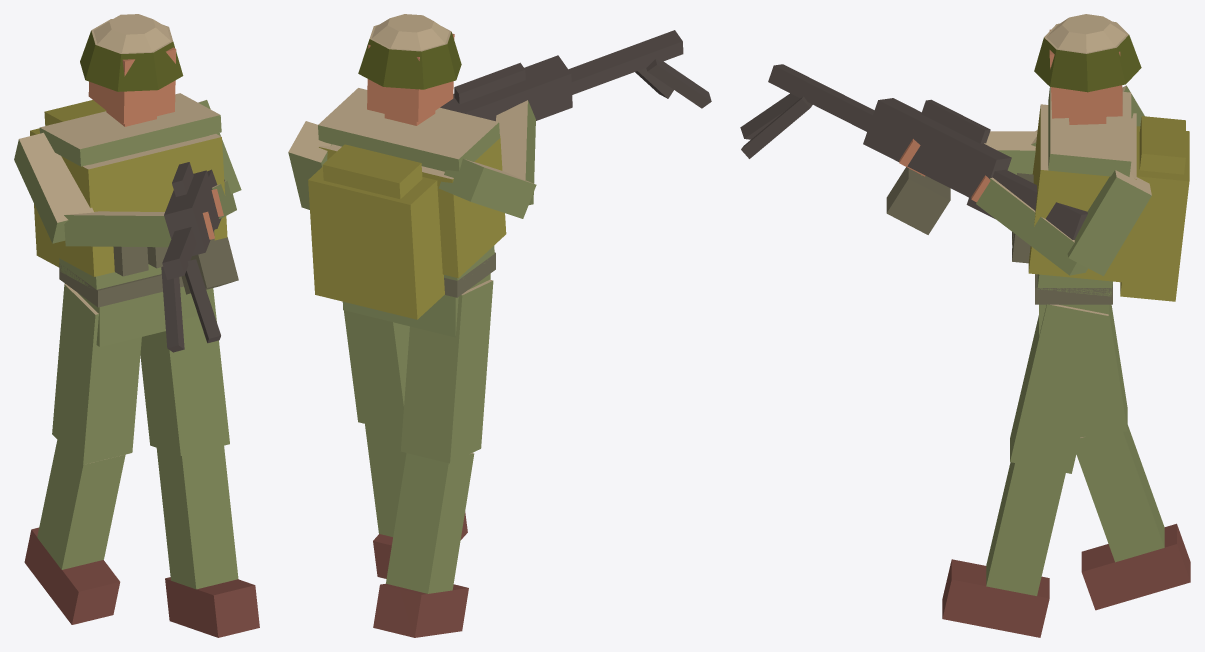
The model's file is SM_SoldadoArmado_v3_MG4E_Apuntando_LOD1.fbx.
3 views of the same model, side by side, from view 1: azimuth 30°, elevation 25°; view 2: azimuth 150°, elevation 25°; view 3: azimuth 270°, elevation 25° (orthographic).
Parts seen in each view (by area): view 1: SM_bloques.soldado_armado_v3_LOD1; view 2: SM_bloques.soldado_armado_v3_LOD1; view 3: SM_bloques.soldado_armado_v3_LOD1.
Boxes of the visible parts, left/top/right/bottom form: SM_bloques.soldado_armado_v3_LOD1: left=14, top=14, right=259, bottom=637; SM_bloques.soldado_armado_v3_LOD1: left=288, top=14, right=711, bottom=637; SM_bloques.soldado_armado_v3_LOD1: left=740, top=14, right=1190, bottom=637.
Bounding box in the file's own units: 0.7295 × 1.77 × 1.21.
